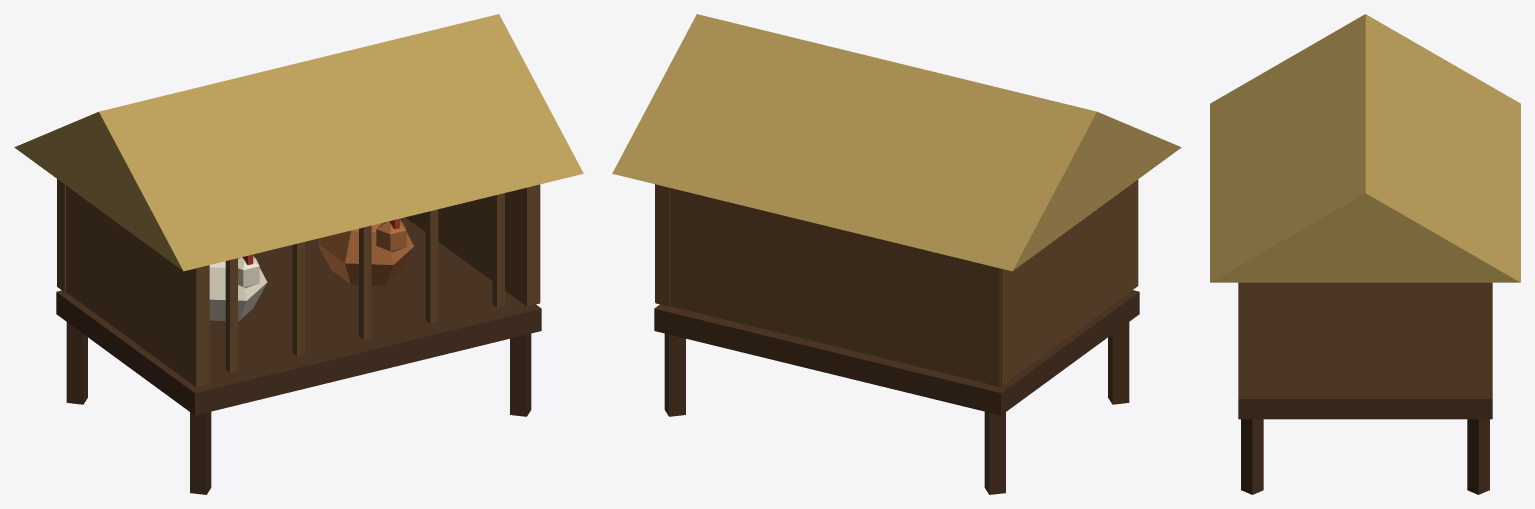
The model's file is prop_life_chicken_coop.glb.
The picture shows the model from 3 angles, left to right: view 1: azimuth 30°, elevation 25°; view 2: azimuth 150°, elevation 25°; view 3: azimuth 270°, elevation 25°; orthographic projection. The views are drawn at different scales.
Parts seen in each view (by area): view 1: prop_life_chicken_coop; view 2: prop_life_chicken_coop; view 3: prop_life_chicken_coop.
Part boxes in pixels (x1,y1,x2,y2): prop_life_chicken_coop: (14, 14, 583, 494); prop_life_chicken_coop: (612, 14, 1181, 494); prop_life_chicken_coop: (1210, 14, 1520, 494).
Bounding box in the file's own units: 1.5 × 1.23 × 1.1.
